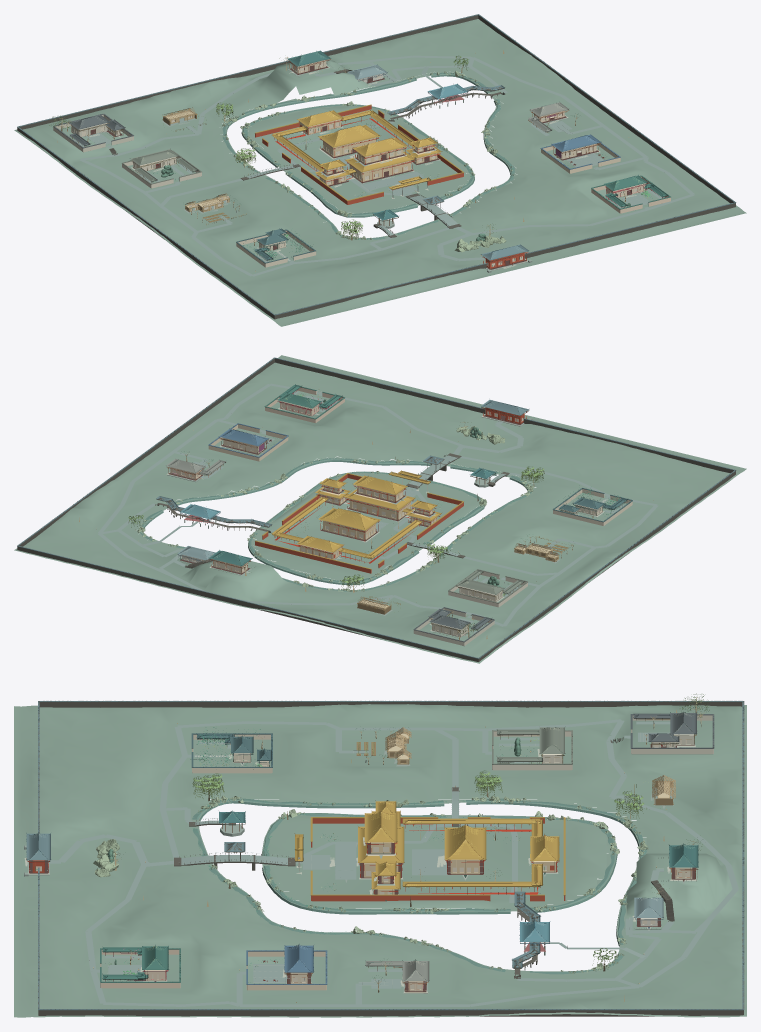
Rendered from overview-fast.glb.
3 views of the same model, one above another, from view 1: azimuth 30°, elevation 25°; view 2: azimuth 150°, elevation 25°; view 3: azimuth 270°, elevation 25° (orthographic). The views are drawn at different scales.
Visible parts, largest first — view 1: Urban_Clipped_Garden_Earth, Mobile_landscape, Mobile_landscape_paving, r15_daguanlou_Sunwen_r18_ceremonial_goldroof.002, Mobile_landscape_bankstone, Mobile_landscape_roofshell, Mobile_landscape_limestone, r15_daguanlou_Sunwen_r18_ceremonial_plaster.004, r15_daguanlou_Sunwen_r18_vermillion-wall_plaster.002, Mobile_landscape_plants, r15_daguanlou_Sunwen_r18_ceremonial_wood.002, r15_yihongyuan_Sunwen_r18_crimson_roof.002 (+7 smaller); view 2: Urban_Clipped_Garden_Earth, Mobile_landscape, Mobile_landscape_paving, r15_daguanlou_Sunwen_r18_ceremonial_goldroof.002, Mobile_landscape_bankstone, Mobile_landscape_roofshell, r15_daguanlou_Sunwen_r18_ceremonial_plaster.004, Mobile_landscape_limestone, r15_daguanlou_Sunwen_r18_vermillion-wall_plaster.002, Mobile_landscape_plants, r15_daguanlou_Sunwen_r18_ceremonial_wood.002, r15_hengwuyuan_Sunwen_r18_herbal_roof.002 (+10 smaller); view 3: Urban_Clipped_Garden_Earth, Mobile_landscape_paving, Mobile_landscape, r15_daguanlou_Sunwen_r18_ceremonial_goldroof.002, Mobile_landscape_bankstone, Mobile_landscape_roofshell, Mobile_landscape_limestone, Mobile_daguanlou_paving, Mobile_landscape_plants, r15_daguanlou_Sunwen_r18_vermillion-wall_plaster.002, r15_yihongyuan_Sunwen_r18_crimson_roof.002, r15_hengwuyuan_Sunwen_r18_herbal_roof.002 (+20 smaller).
Part boxes in pixels (x1,y1,x2,y2): Urban_Clipped_Garden_Earth: (14, 19, 746, 326); Mobile_landscape: (17, 14, 735, 319); Mobile_landscape_paving: (79, 55, 694, 276); r15_daguanlou_Sunwen_r18_ceremonial_goldroof.002: (255, 104, 464, 201); Mobile_landscape_bankstone: (222, 72, 514, 239); Mobile_landscape_roofshell: (17, 14, 736, 315); Mobile_landscape_limestone: (222, 70, 513, 252); r15_daguanlou_Sunwen_r18_ceremonial_plaster.004: (299, 119, 437, 185); r15_daguanlou_Sunwen_r18_vermillion-wall_plaster.002: (255, 105, 463, 204); Mobile_landscape_plants: (57, 50, 524, 240); r15_daguanlou_Sunwen_r18_ceremonial_wood.002: (274, 117, 440, 189); r15_yihongyuan_Sunwen_r18_crimson_roof.002: (591, 175, 670, 209); Urban_Clipped_Garden_Earth: (14, 355, 746, 663); Mobile_landscape: (17, 358, 735, 661); Mobile_landscape_paving: (98, 383, 658, 626); r15_daguanlou_Sunwen_r18_ceremonial_goldroof.002: (255, 470, 463, 569); Mobile_landscape_bankstone: (140, 458, 531, 591); Mobile_landscape_roofshell: (17, 357, 735, 658); r15_daguanlou_Sunwen_r18_ceremonial_plaster.004: (299, 485, 437, 559); Mobile_landscape_limestone: (137, 426, 533, 591); r15_daguanlou_Sunwen_r18_vermillion-wall_plaster.002: (255, 474, 463, 573); Mobile_landscape_plants: (79, 429, 544, 639); r15_daguanlou_Sunwen_r18_ceremonial_wood.002: (274, 485, 440, 563); r15_hengwuyuan_Sunwen_r18_herbal_roof.002: (448, 569, 527, 603); Urban_Clipped_Garden_Earth: (14, 704, 746, 1017); Mobile_landscape_paving: (27, 719, 738, 1006); Mobile_landscape: (38, 701, 744, 1016); r15_daguanlou_Sunwen_r18_ceremonial_goldroof.002: (295, 801, 565, 895); Mobile_landscape_bankstone: (192, 798, 647, 974); Mobile_landscape_roofshell: (38, 701, 744, 1010); Mobile_landscape_limestone: (93, 795, 648, 973); Mobile_daguanlou_paving: (295, 842, 448, 879); Mobile_landscape_plants: (143, 710, 677, 1001); r15_daguanlou_Sunwen_r18_vermillion-wall_plaster.002: (311, 818, 565, 901); r15_yihongyuan_Sunwen_r18_crimson_roof.002: (100, 946, 180, 982); r15_hengwuyuan_Sunwen_r18_herbal_roof.002: (492, 727, 572, 764).
Size of the model in its own units: 297 by 21.72 by 295.
